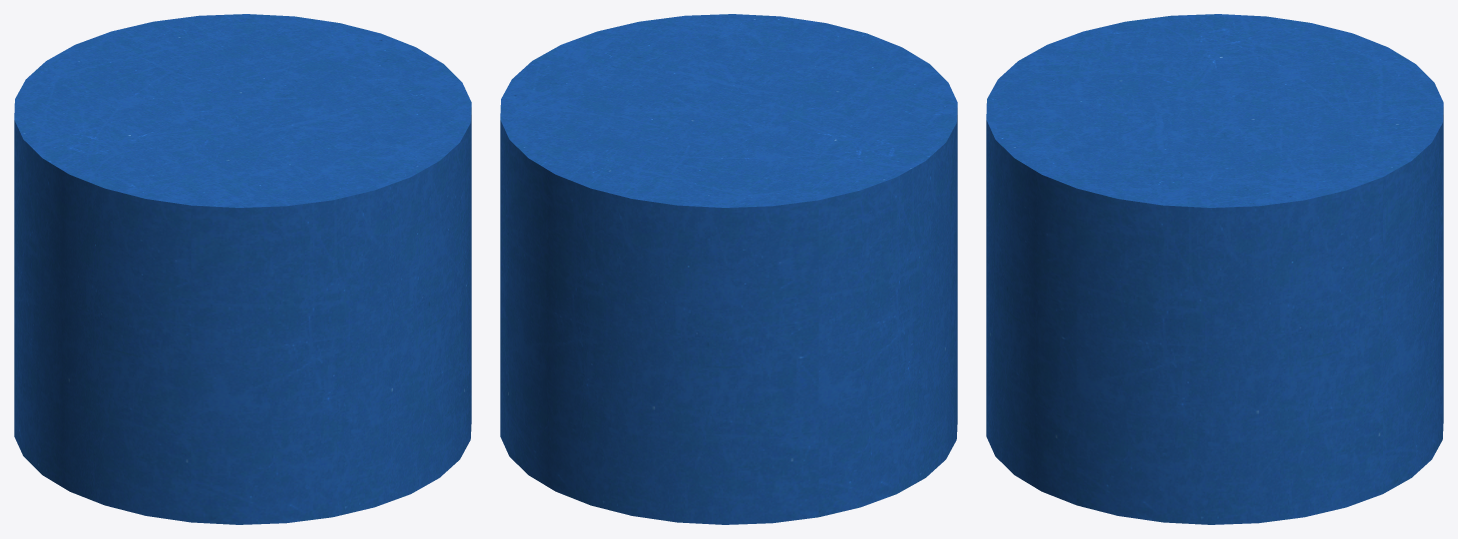
Rendered from SM_氯化钠盖.fbx.
The picture shows the model from 3 angles, left to right: view 1: azimuth 30°, elevation 25°; view 2: azimuth 150°, elevation 25°; view 3: azimuth 270°, elevation 25°; orthographic projection.
Parts seen in each view (by area): view 1: SM_氯化钠盖; view 2: SM_氯化钠盖; view 3: SM_氯化钠盖.
Part boxes in pixels (x1=…): SM_氯化钠盖: x1=14, y1=14, x2=471, y2=524; SM_氯化钠盖: x1=500, y1=14, x2=957, y2=524; SM_氯化钠盖: x1=986, y1=14, x2=1443, y2=524.
Bounding box in the file's own units: 27.52 × 20.97 × 27.42.
